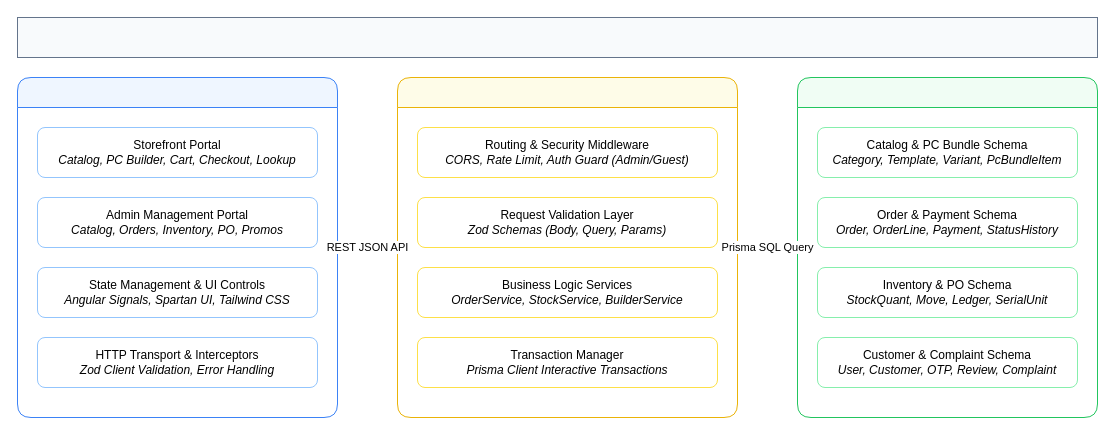
Image size: 1115x435. Some labels were removed from this diagram. The box of each missing label's shape, as (x1, y1, x2, y2) in pixels:
API & Service Tier (Backend - Node.js Express): (396, 76, 738, 418)
Data Persistence Tier (PostgreSQL): (796, 76, 1098, 418)
KIẾN TRÚC PHÂN TẦNG ỨNG DỤNG EL-TECH: ANGULAR - EXPRESS - PRISMA - POSTGRESQL: (16, 16, 1098, 58)
Presentation Tier (Frontend - Angular 22): (16, 76, 338, 418)
